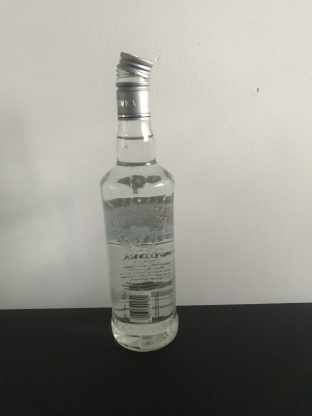nakretka: (114, 49, 154, 121)
